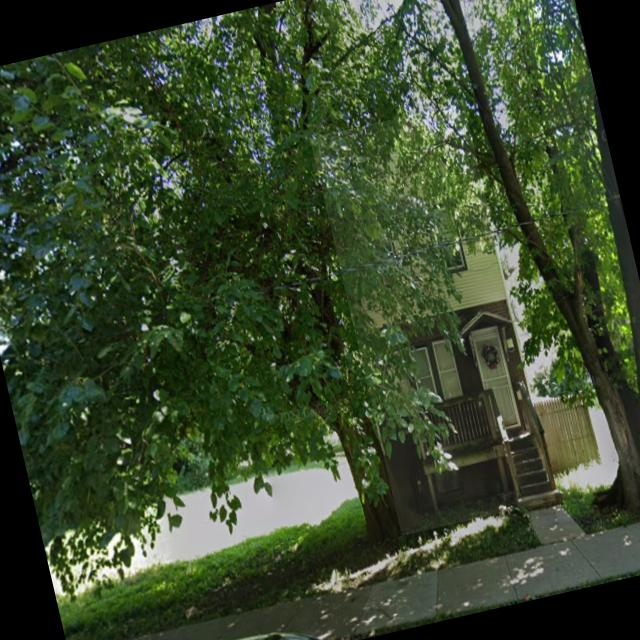House: (310, 102, 556, 536)
